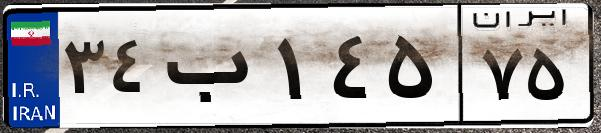1: (270, 28, 330, 110)
3: (57, 26, 110, 100)
4: (330, 28, 385, 110), (110, 28, 158, 98)
5: (385, 28, 445, 110), (525, 38, 570, 115)
7: (475, 38, 525, 113)
ب: (158, 20, 270, 120)
